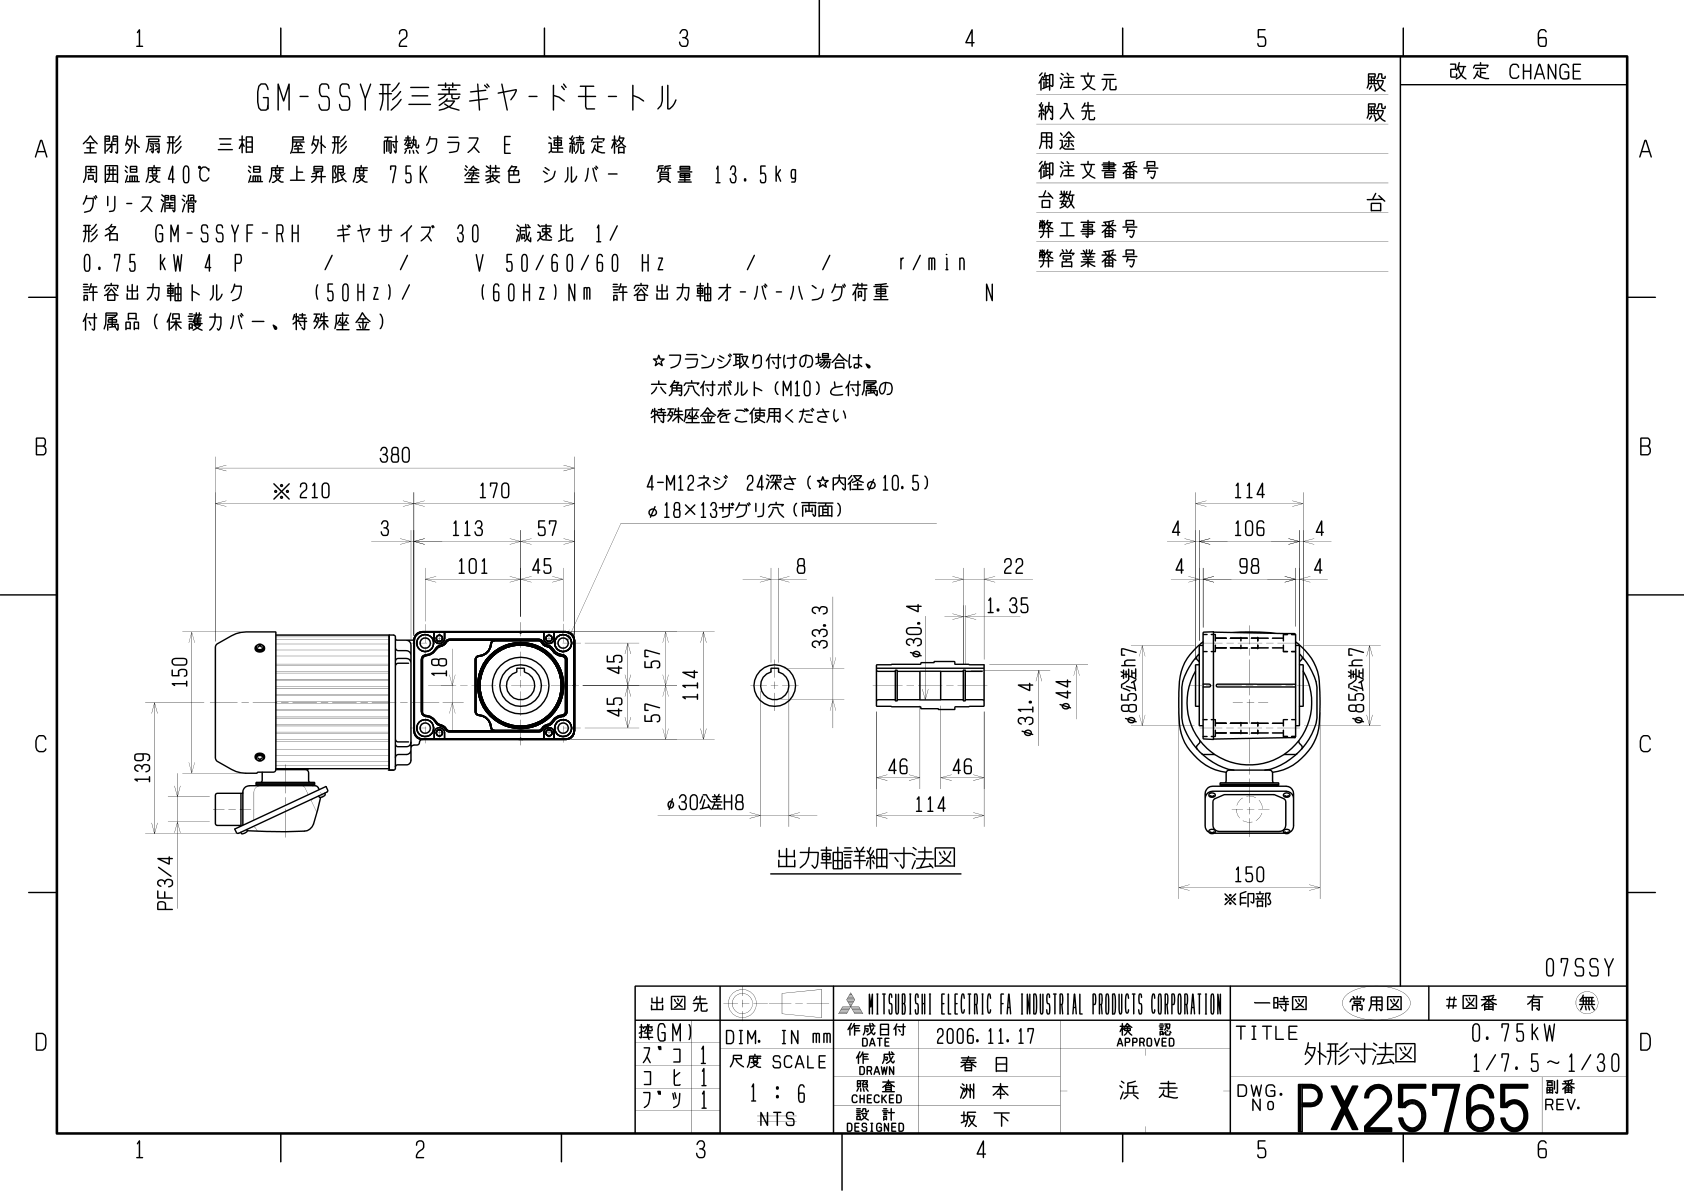GM_SSY_インバータ屋外_三相: (85, 349, 1386, 951)
